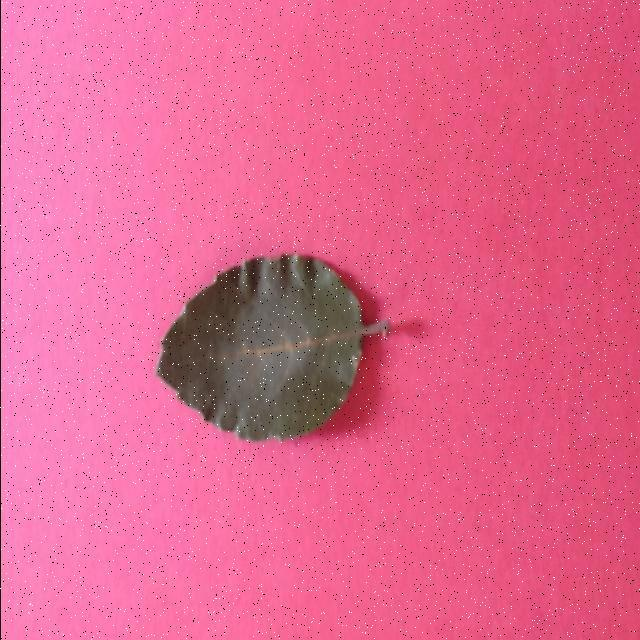foliage: (154, 255, 388, 442)
